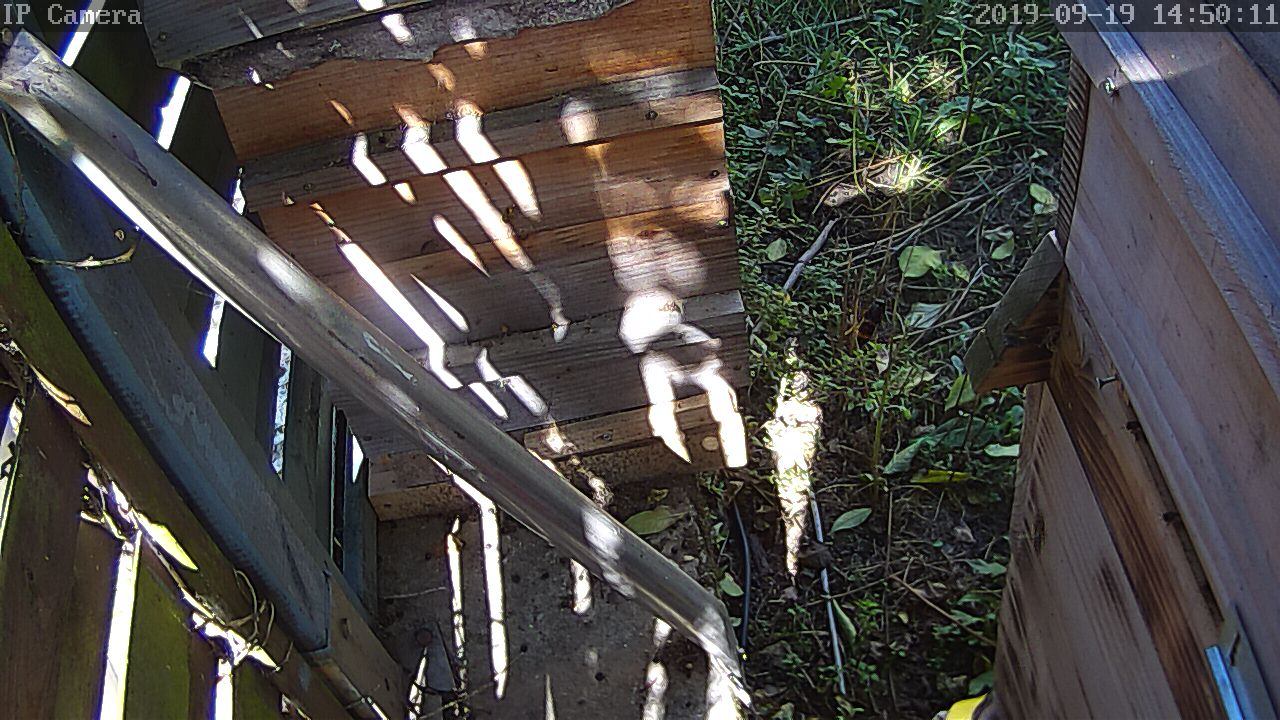hornet: (12, 1, 1256, 720)
